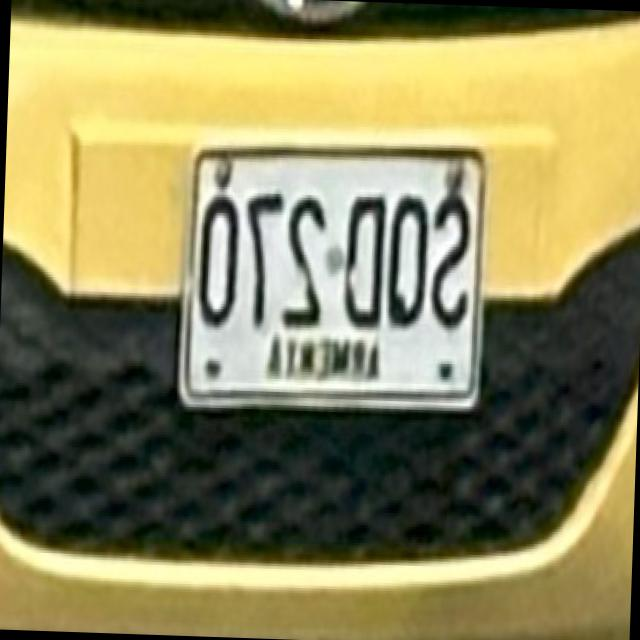number plate: (181, 148, 483, 403)
